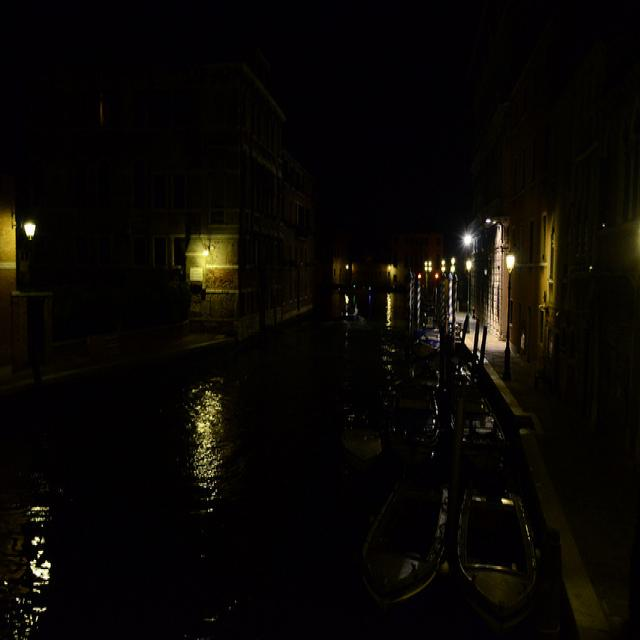Boat: (352, 463, 459, 614), (454, 472, 541, 633), (449, 353, 506, 469), (338, 375, 396, 479), (389, 359, 445, 465)
